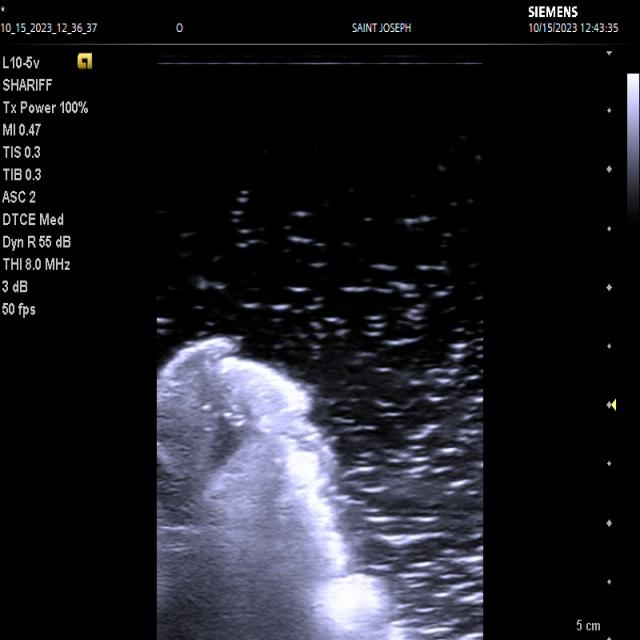tissue: (157, 337, 394, 640)
